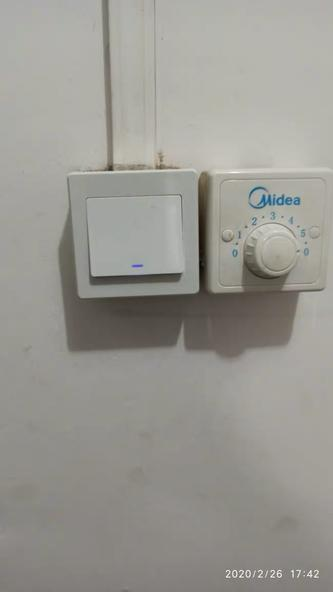switch: (81, 188, 188, 290)
